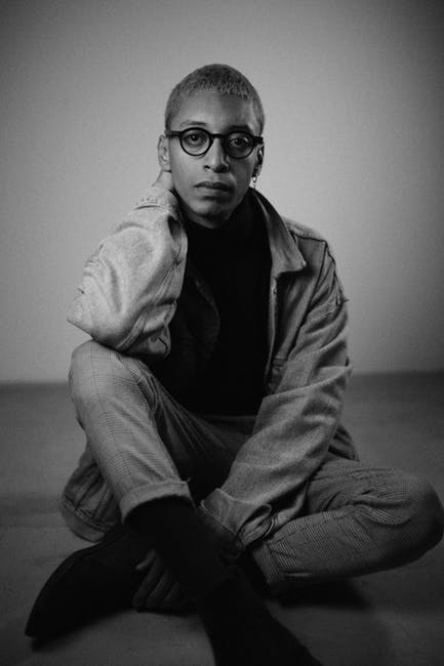face: (171, 92, 260, 217)
